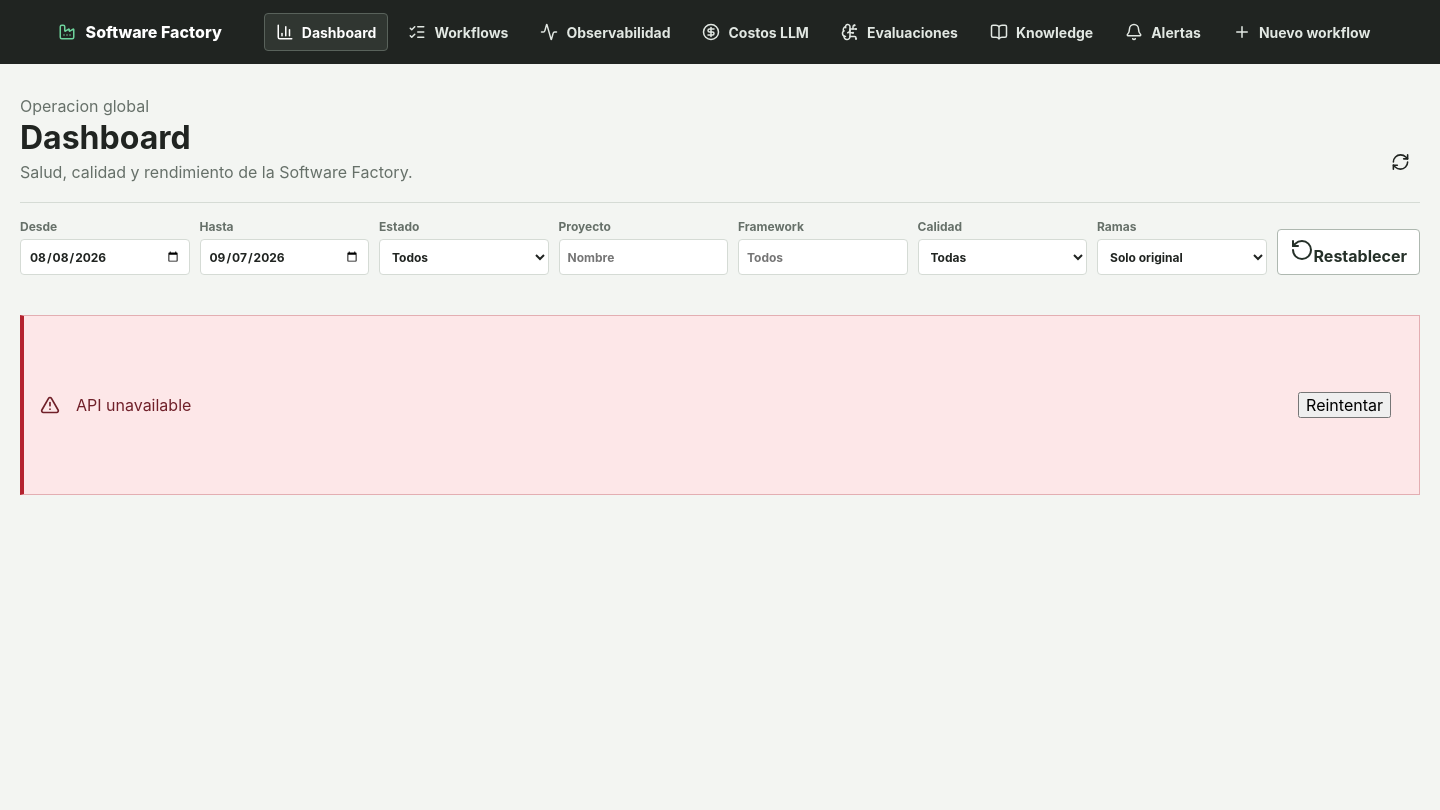
DashboardPage › shows an error and can retry
This screenshot has width=1440, height=810.
Expected: the message shows "API unavailable", [76,395,191,415]
Click the button "Reintentar".
click(1345, 405)  # box [1298,392,1391,418]
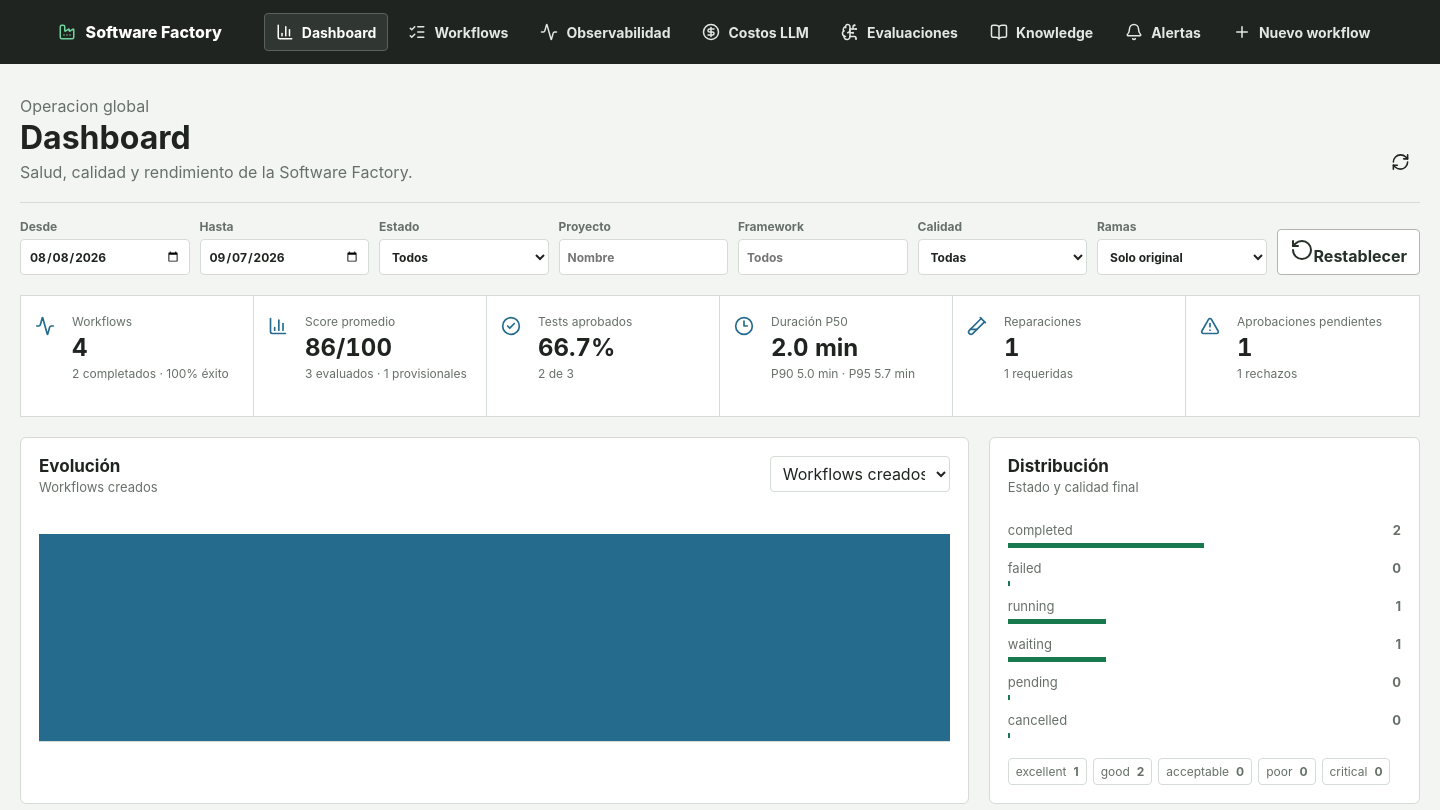
Now the text "86/100" is shown, box [305,333,392,362]
